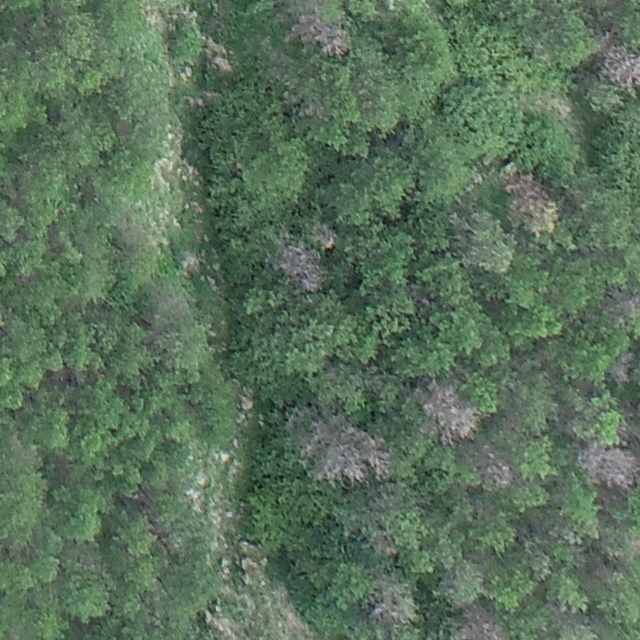unhealthy: (285, 414, 392, 485), (419, 380, 486, 446), (450, 212, 514, 272), (504, 171, 559, 236), (574, 440, 640, 489), (290, 12, 351, 61), (277, 241, 321, 292), (448, 604, 505, 640), (604, 44, 640, 92), (360, 524, 399, 558), (602, 283, 640, 317), (370, 585, 403, 624), (527, 95, 571, 118), (484, 452, 512, 488), (608, 353, 635, 385), (310, 222, 336, 250)
